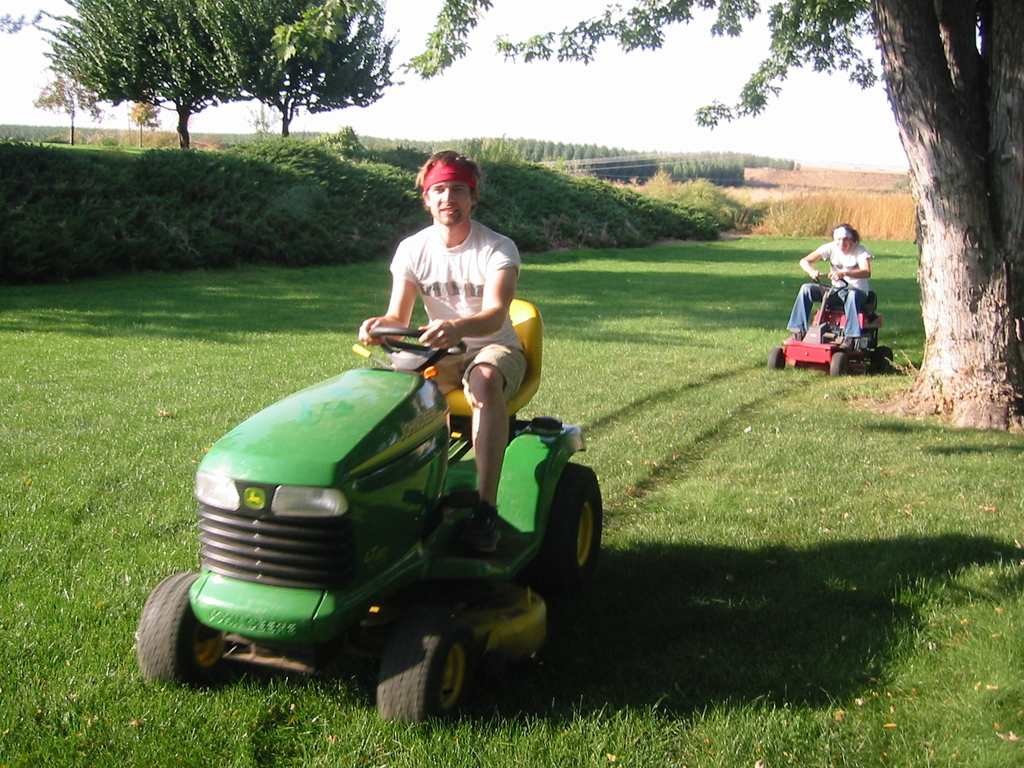Person: (358, 150, 527, 552), (782, 222, 874, 352)
